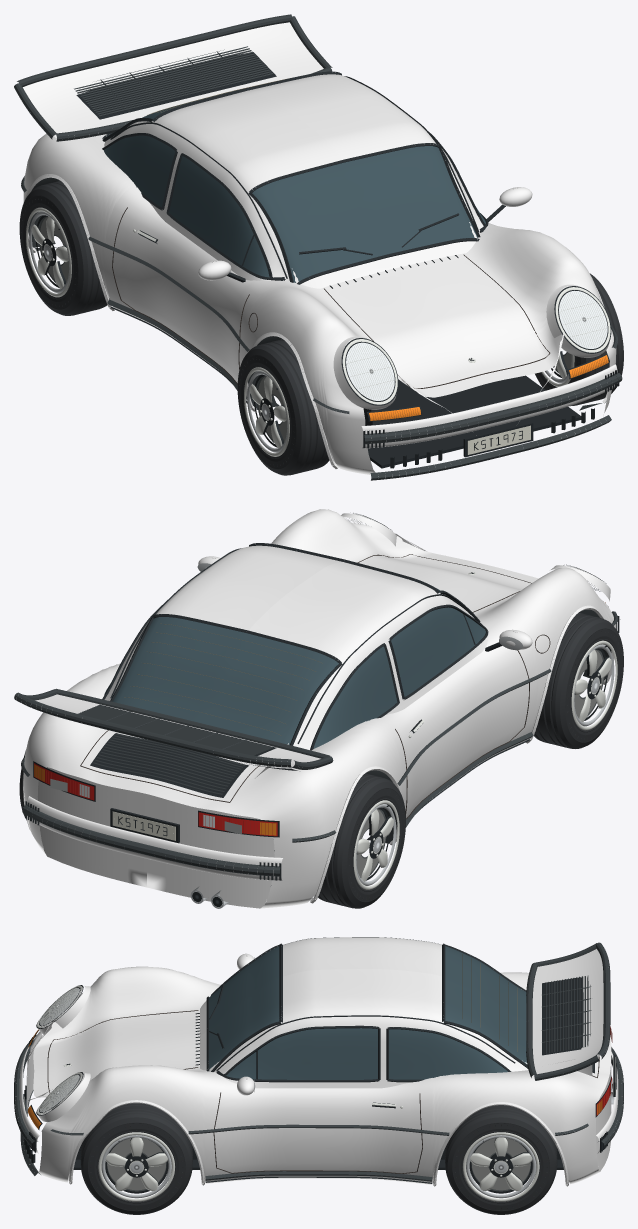
The picture shows the model from 3 angles, top to bottom: view 1: azimuth 30°, elevation 25°; view 2: azimuth 150°, elevation 25°; view 3: azimuth 270°, elevation 25°; orthographic projection. The views are drawn at different scales.
Parts seen in each view (by area): view 1: body, wheel_fl, wheel_rl, wheel_fr; view 2: body, wheel_fl, wheel_rl; view 3: body, wheel_fr, wheel_rr.
Boxes of the visible parts, x1,y1,x2,y2 form: body: [14, 14, 622, 480]; wheel_fl: [237, 339, 329, 475]; wheel_rl: [19, 180, 109, 315]; wheel_fr: [535, 273, 623, 406]; body: [14, 509, 620, 908]; wheel_fl: [534, 612, 623, 748]; wheel_rl: [318, 773, 405, 908]; body: [14, 937, 623, 1186]; wheel_fr: [80, 1103, 192, 1214]; wheel_rr: [445, 1105, 557, 1214].
Bounding box in the file's own units: 2.29 × 1.43 × 4.35.
